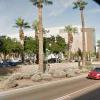Palm tree: (15, 10, 58, 80)
